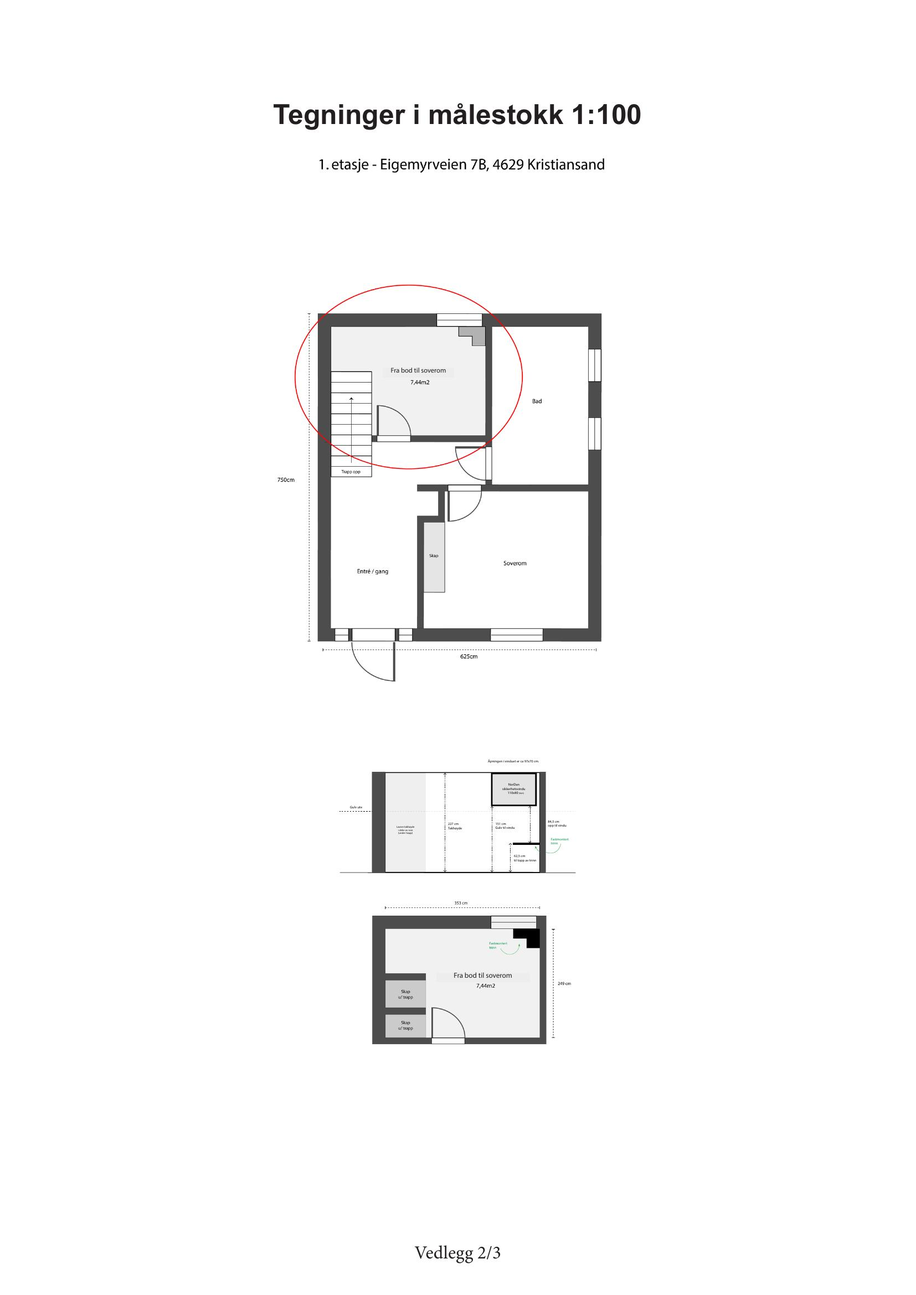plantegning: (298, 297, 616, 682), (364, 908, 553, 1052)
snitt: (364, 765, 554, 881)
